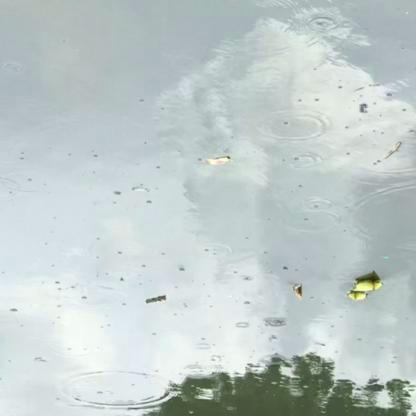Plastic: (203, 154, 235, 171)
Trash: (344, 270, 382, 308)
